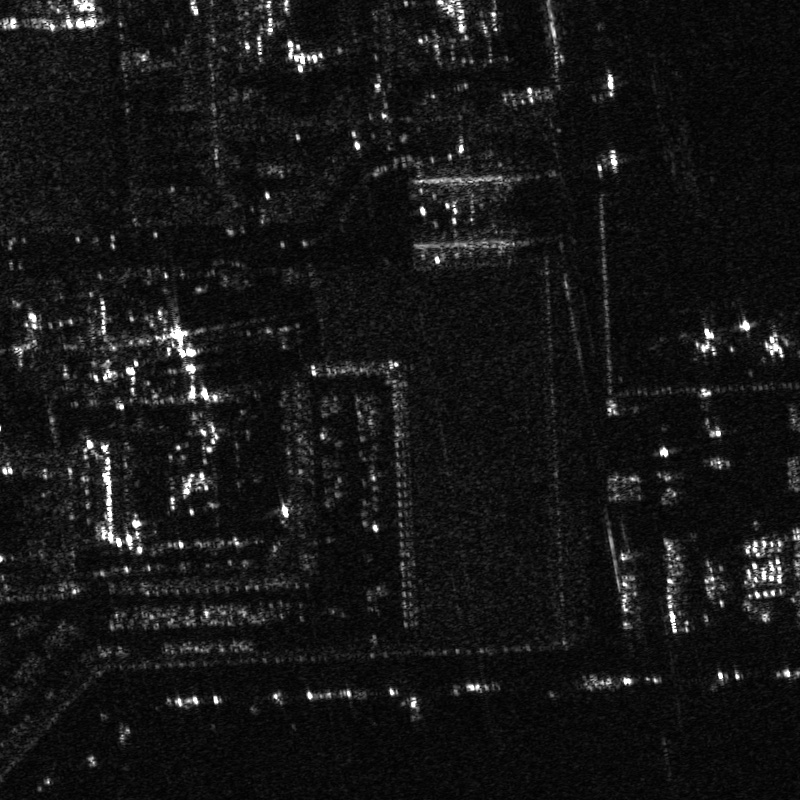ARJ21: (677, 319, 728, 365)
other: (746, 314, 799, 364)
